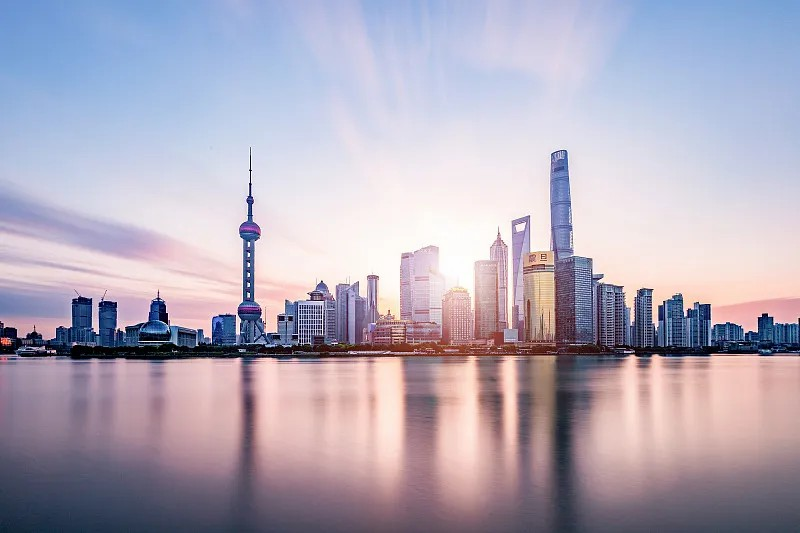Oriental: (238, 146, 270, 343)
